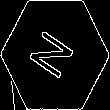N_SE: (27, 25, 83, 85)
